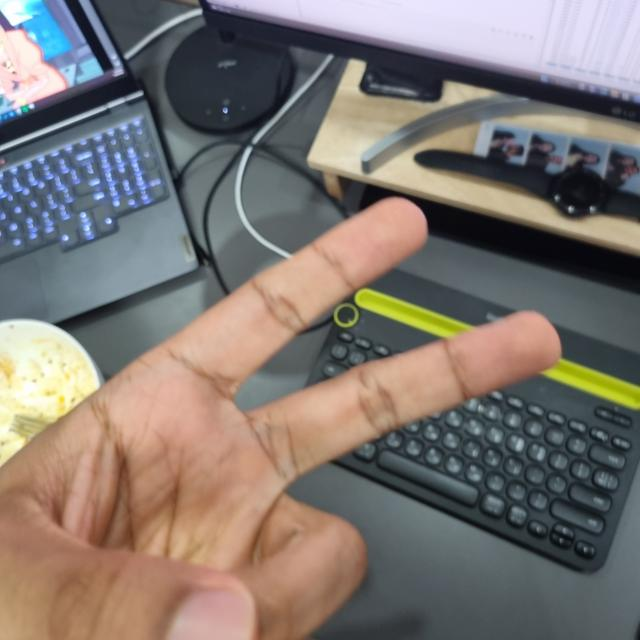Scissors: (0, 197, 561, 638)
